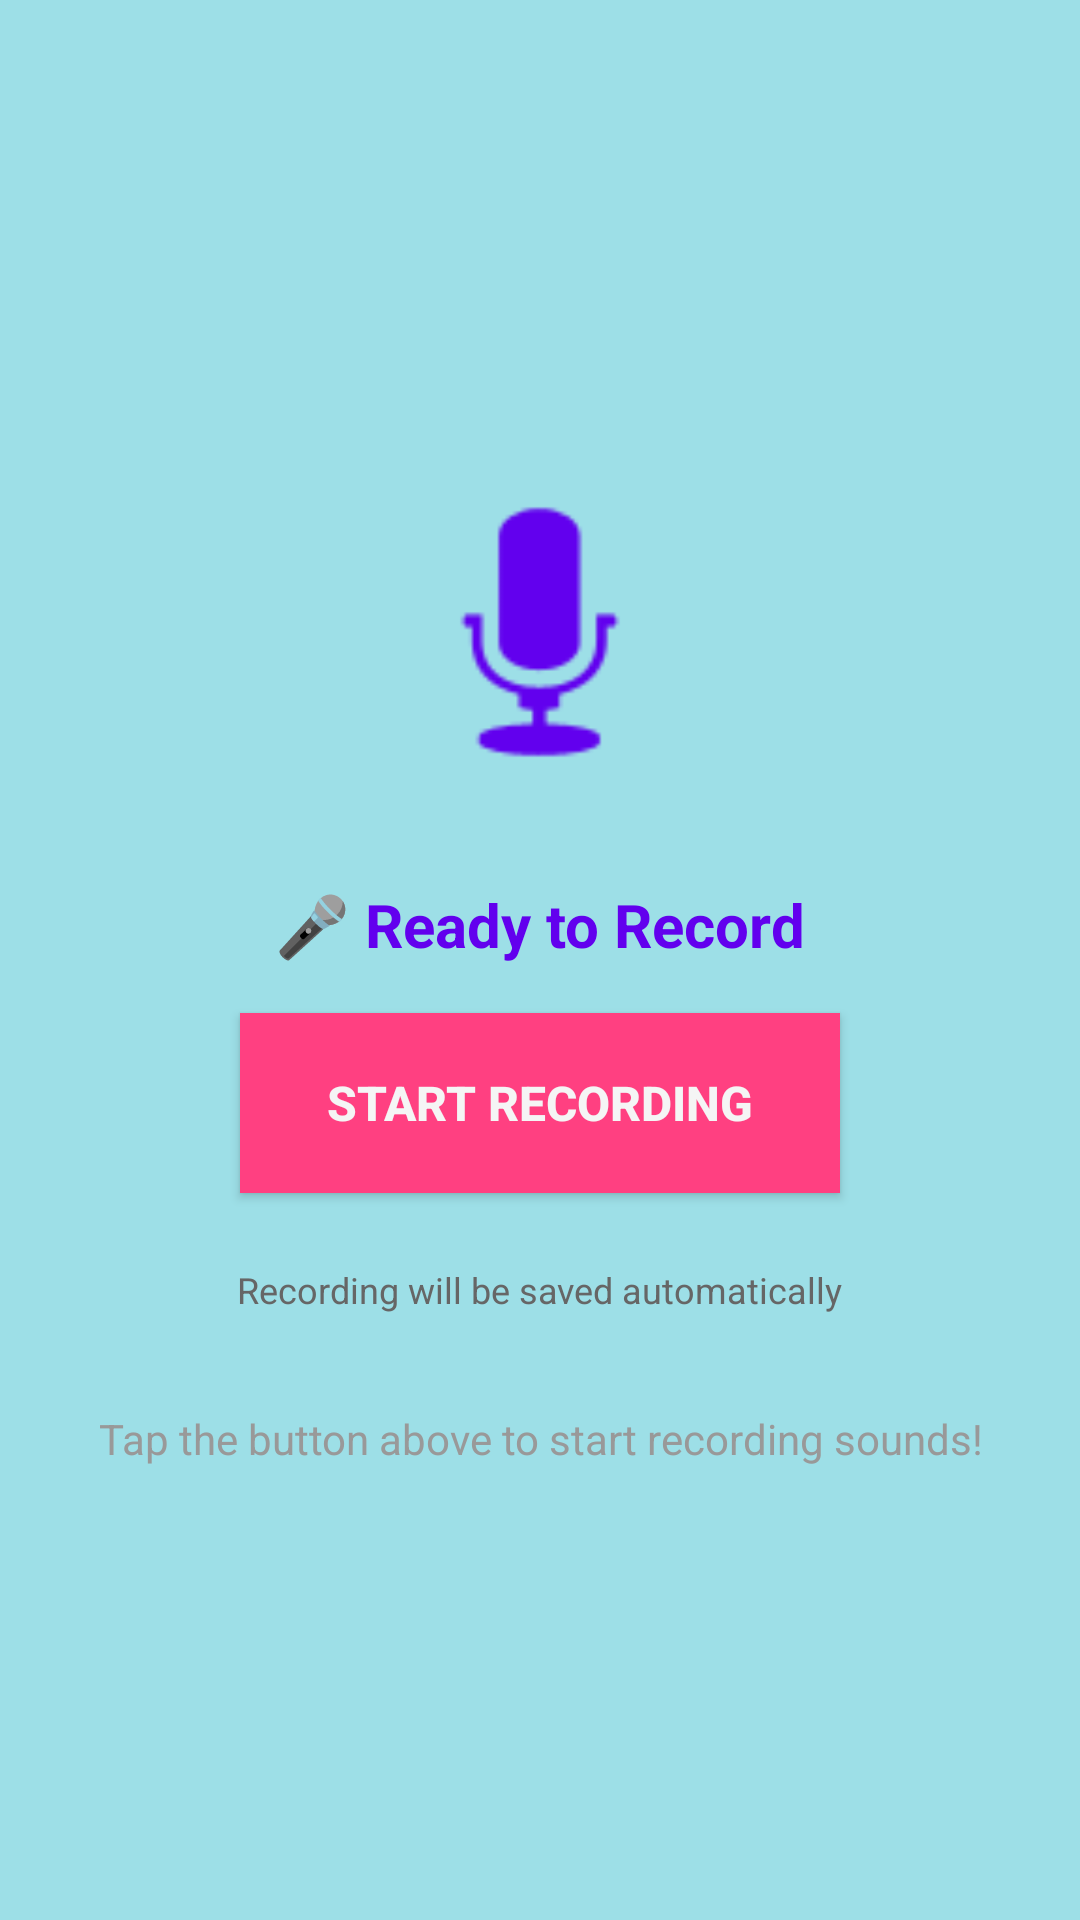

Icons on this 1080 x 1920 Android screen, each with its box as rect(x1, y1, x2, y2):
speak now: rect(460, 507, 619, 757)
